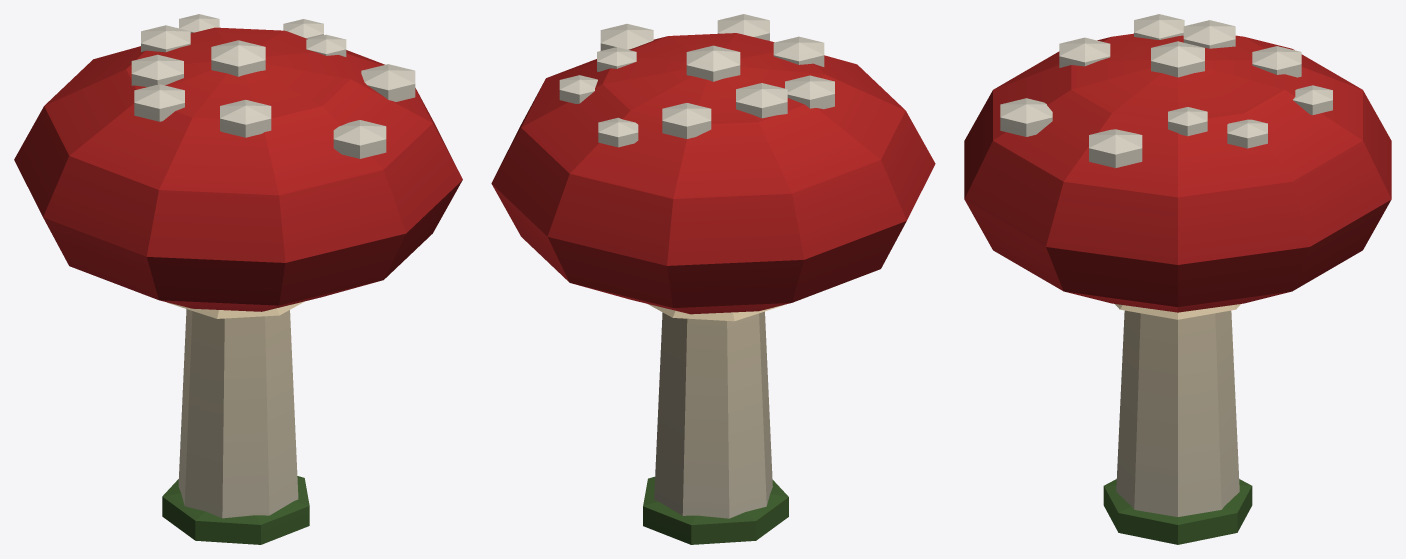
The model's file is toadstool_big.glb.
3 views of the same model, side by side, from view 1: azimuth 30°, elevation 25°; view 2: azimuth 150°, elevation 25°; view 3: azimuth 270°, elevation 25° (orthographic).
Parts seen in each view (by area): view 1: toadstool_big; view 2: toadstool_big; view 3: toadstool_big.
Part boxes in pixels (x1,y1,x2,y2): toadstool_big: (14, 14, 462, 544); toadstool_big: (491, 14, 935, 544); toadstool_big: (964, 14, 1391, 544).
Size of the model in its own units: 2.3 by 2.69 by 2.19.
